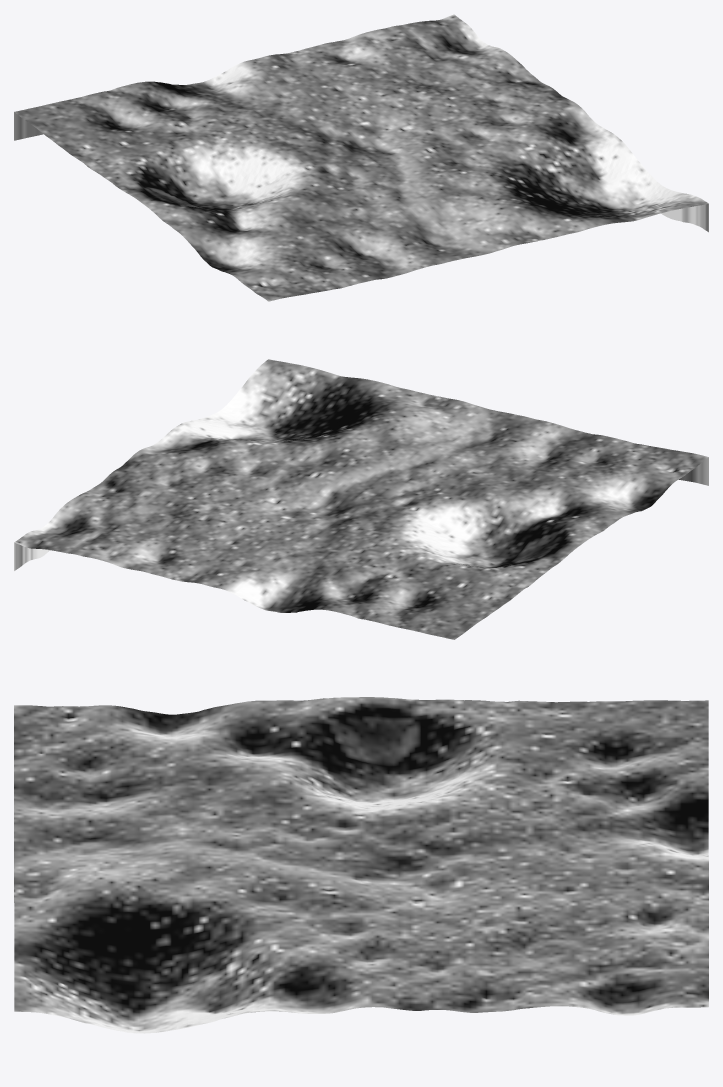
The picture shows the model from 3 angles, top to bottom: view 1: azimuth 30°, elevation 25°; view 2: azimuth 150°, elevation 25°; view 3: azimuth 270°, elevation 25°; orthographic projection. The views are drawn at different scales.
Bounding box in the file's own units: 1277 × 168 × 1279.
1 material, 1 textured.
